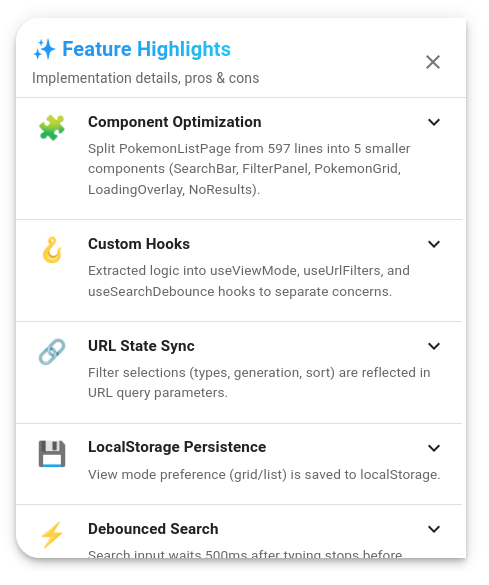
Scenario: FeatureList › expands feature when clicked
The image size is (489, 585).
Click the text "Component Optimization".
click(175, 122)  # box left=88, top=110, right=446, bottom=134
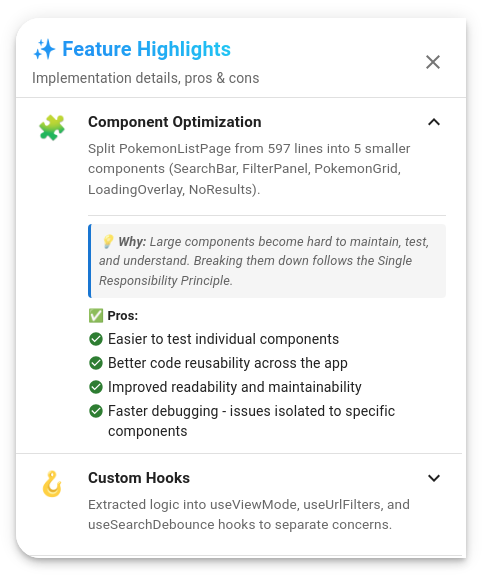
Expected: the text "Large components become hard to maintain" is shown, left=99, top=234, right=429, bottom=288
